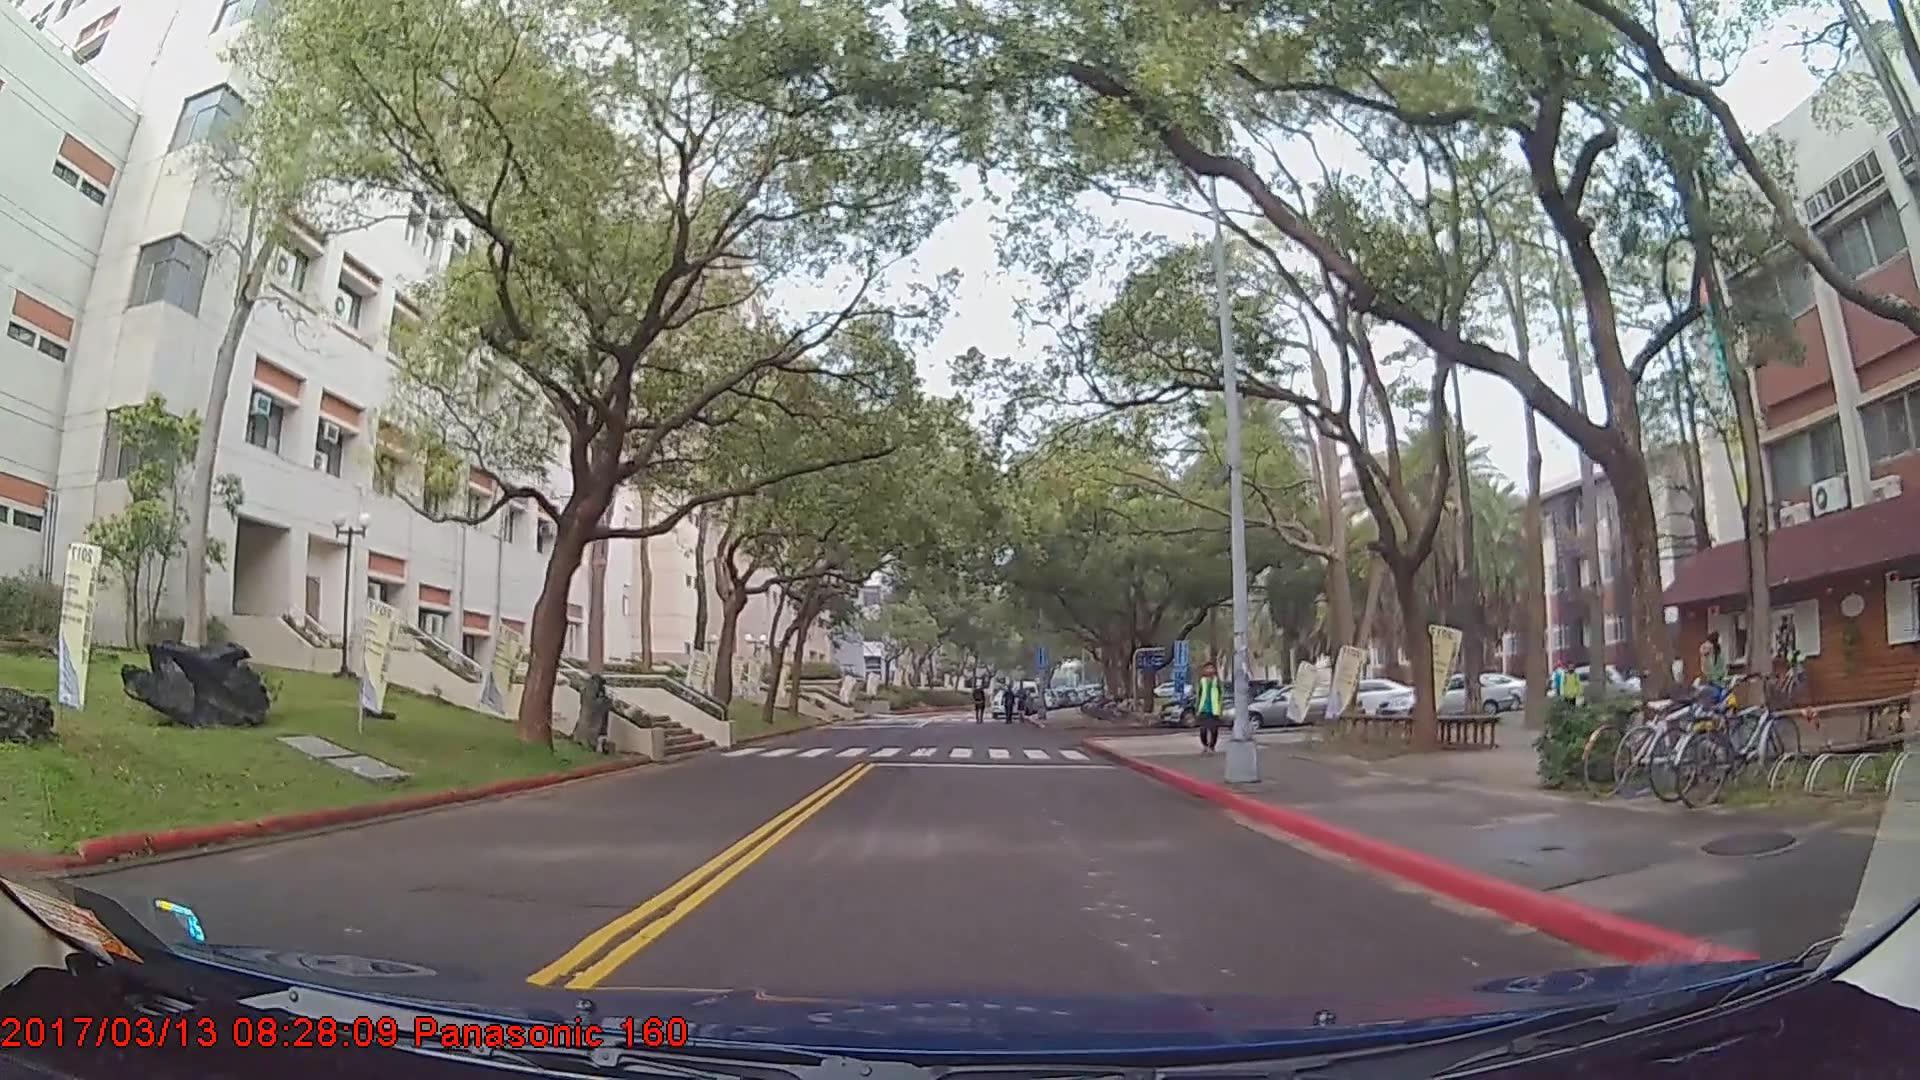pedestrian: (1190, 660, 1226, 755), (1559, 663, 1584, 722), (1000, 686, 1020, 728)
vehicle: (1376, 673, 1513, 725), (1226, 683, 1365, 735)
